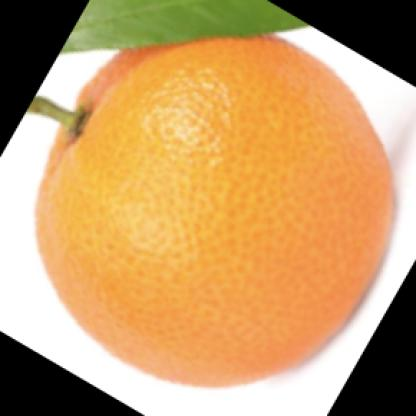fresh: (39, 24, 394, 390)
